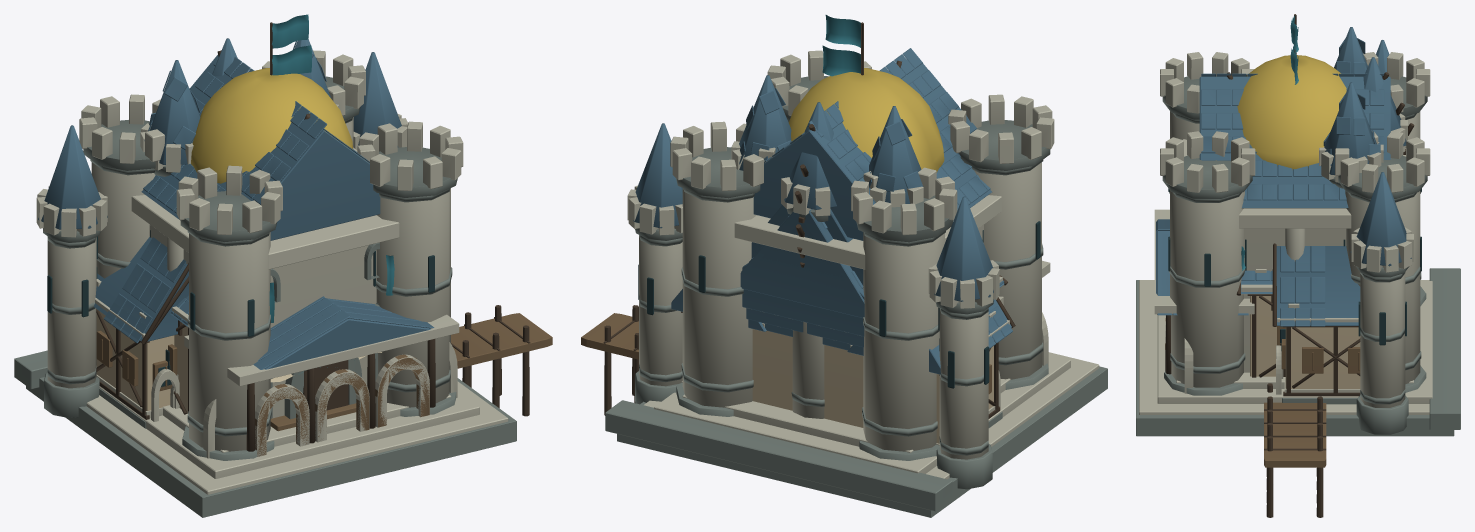
File: frontier-balanced-CLG2aoFa.glb
The picture shows the model from 3 angles, left to right: view 1: azimuth 30°, elevation 25°; view 2: azimuth 150°, elevation 25°; view 3: azimuth 270°, elevation 25°; orthographic projection. The views are drawn at different scales.
Parts seen in each view (by area): view 1: part_167, part_191, part_166, part_190, part_193, part_169, part_26, part_27, part_235, part_8, asset__building__keep__alder__0_SlateTiles, part_24 (+24 smaller); view 2: part_167, part_24, part_191, part_26, part_166, part_183, part_193, part_645, part_257, part_190, part_181, part_169 (+19 smaller); view 3: part_167, part_191, part_193, part_24, part_166, part_26, asset__building__keep__alder__0_SlateTiles, part_190, part_169, part_196, part_467, part_257 (+26 smaller).
Part boxes in pixels (box(x1,y1,x2,y2)): part_167: box(79, 50, 463, 451); part_191: box(86, 147, 508, 494); part_166: box(83, 76, 457, 460); part_190: box(26, 302, 516, 517); part_193: box(191, 68, 353, 183); part_169: box(141, 55, 380, 240); part_26: box(36, 114, 457, 456); part_27: box(38, 39, 401, 369); part_235: box(95, 279, 459, 421); part_8: box(96, 332, 429, 456); asset__building__keep__alder__0_SlateTiles: box(143, 56, 369, 213); part_24: box(14, 228, 100, 417); part_167: box(670, 50, 1054, 451); part_24: box(605, 207, 993, 511); part_191: box(644, 195, 1099, 479); part_26: box(628, 187, 1046, 459); part_166: box(676, 76, 1050, 460); part_183: box(739, 75, 921, 317); part_193: box(788, 68, 944, 172); part_645: box(740, 110, 920, 317); part_257: box(627, 185, 1047, 459); part_190: box(617, 366, 1107, 517); part_181: box(752, 329, 863, 427); part_169: box(753, 60, 991, 240); part_167: box(1160, 52, 1430, 387); part_191: box(1139, 139, 1432, 414); part_193: box(1237, 55, 1346, 169); part_24: box(1356, 266, 1460, 434); part_166: box(1162, 76, 1427, 395); part_26: box(1165, 227, 1413, 407); asset__building__keep__alder__0_SlateTiles: box(1201, 73, 1384, 200); part_190: box(1136, 280, 1454, 436); part_169: box(1199, 76, 1390, 208); part_196: box(1264, 402, 1326, 467); part_467: box(1276, 246, 1360, 325); part_257: box(1185, 117, 1413, 406).
Bounding box in the file's own units: 14.82 × 14 × 10.39.
